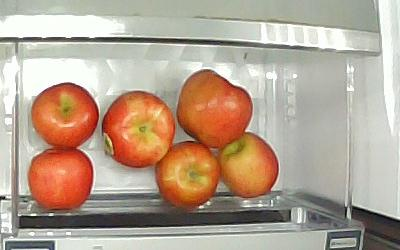apple: (176, 68, 251, 151), (100, 90, 175, 170), (31, 83, 99, 149), (155, 141, 220, 209), (29, 147, 93, 215), (222, 131, 279, 196)
